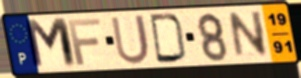8: (195, 10, 229, 63)
D: (147, 12, 189, 65)
F: (66, 17, 103, 67)
M: (23, 16, 80, 71)
N: (227, 9, 270, 60)
U: (109, 13, 152, 66)
